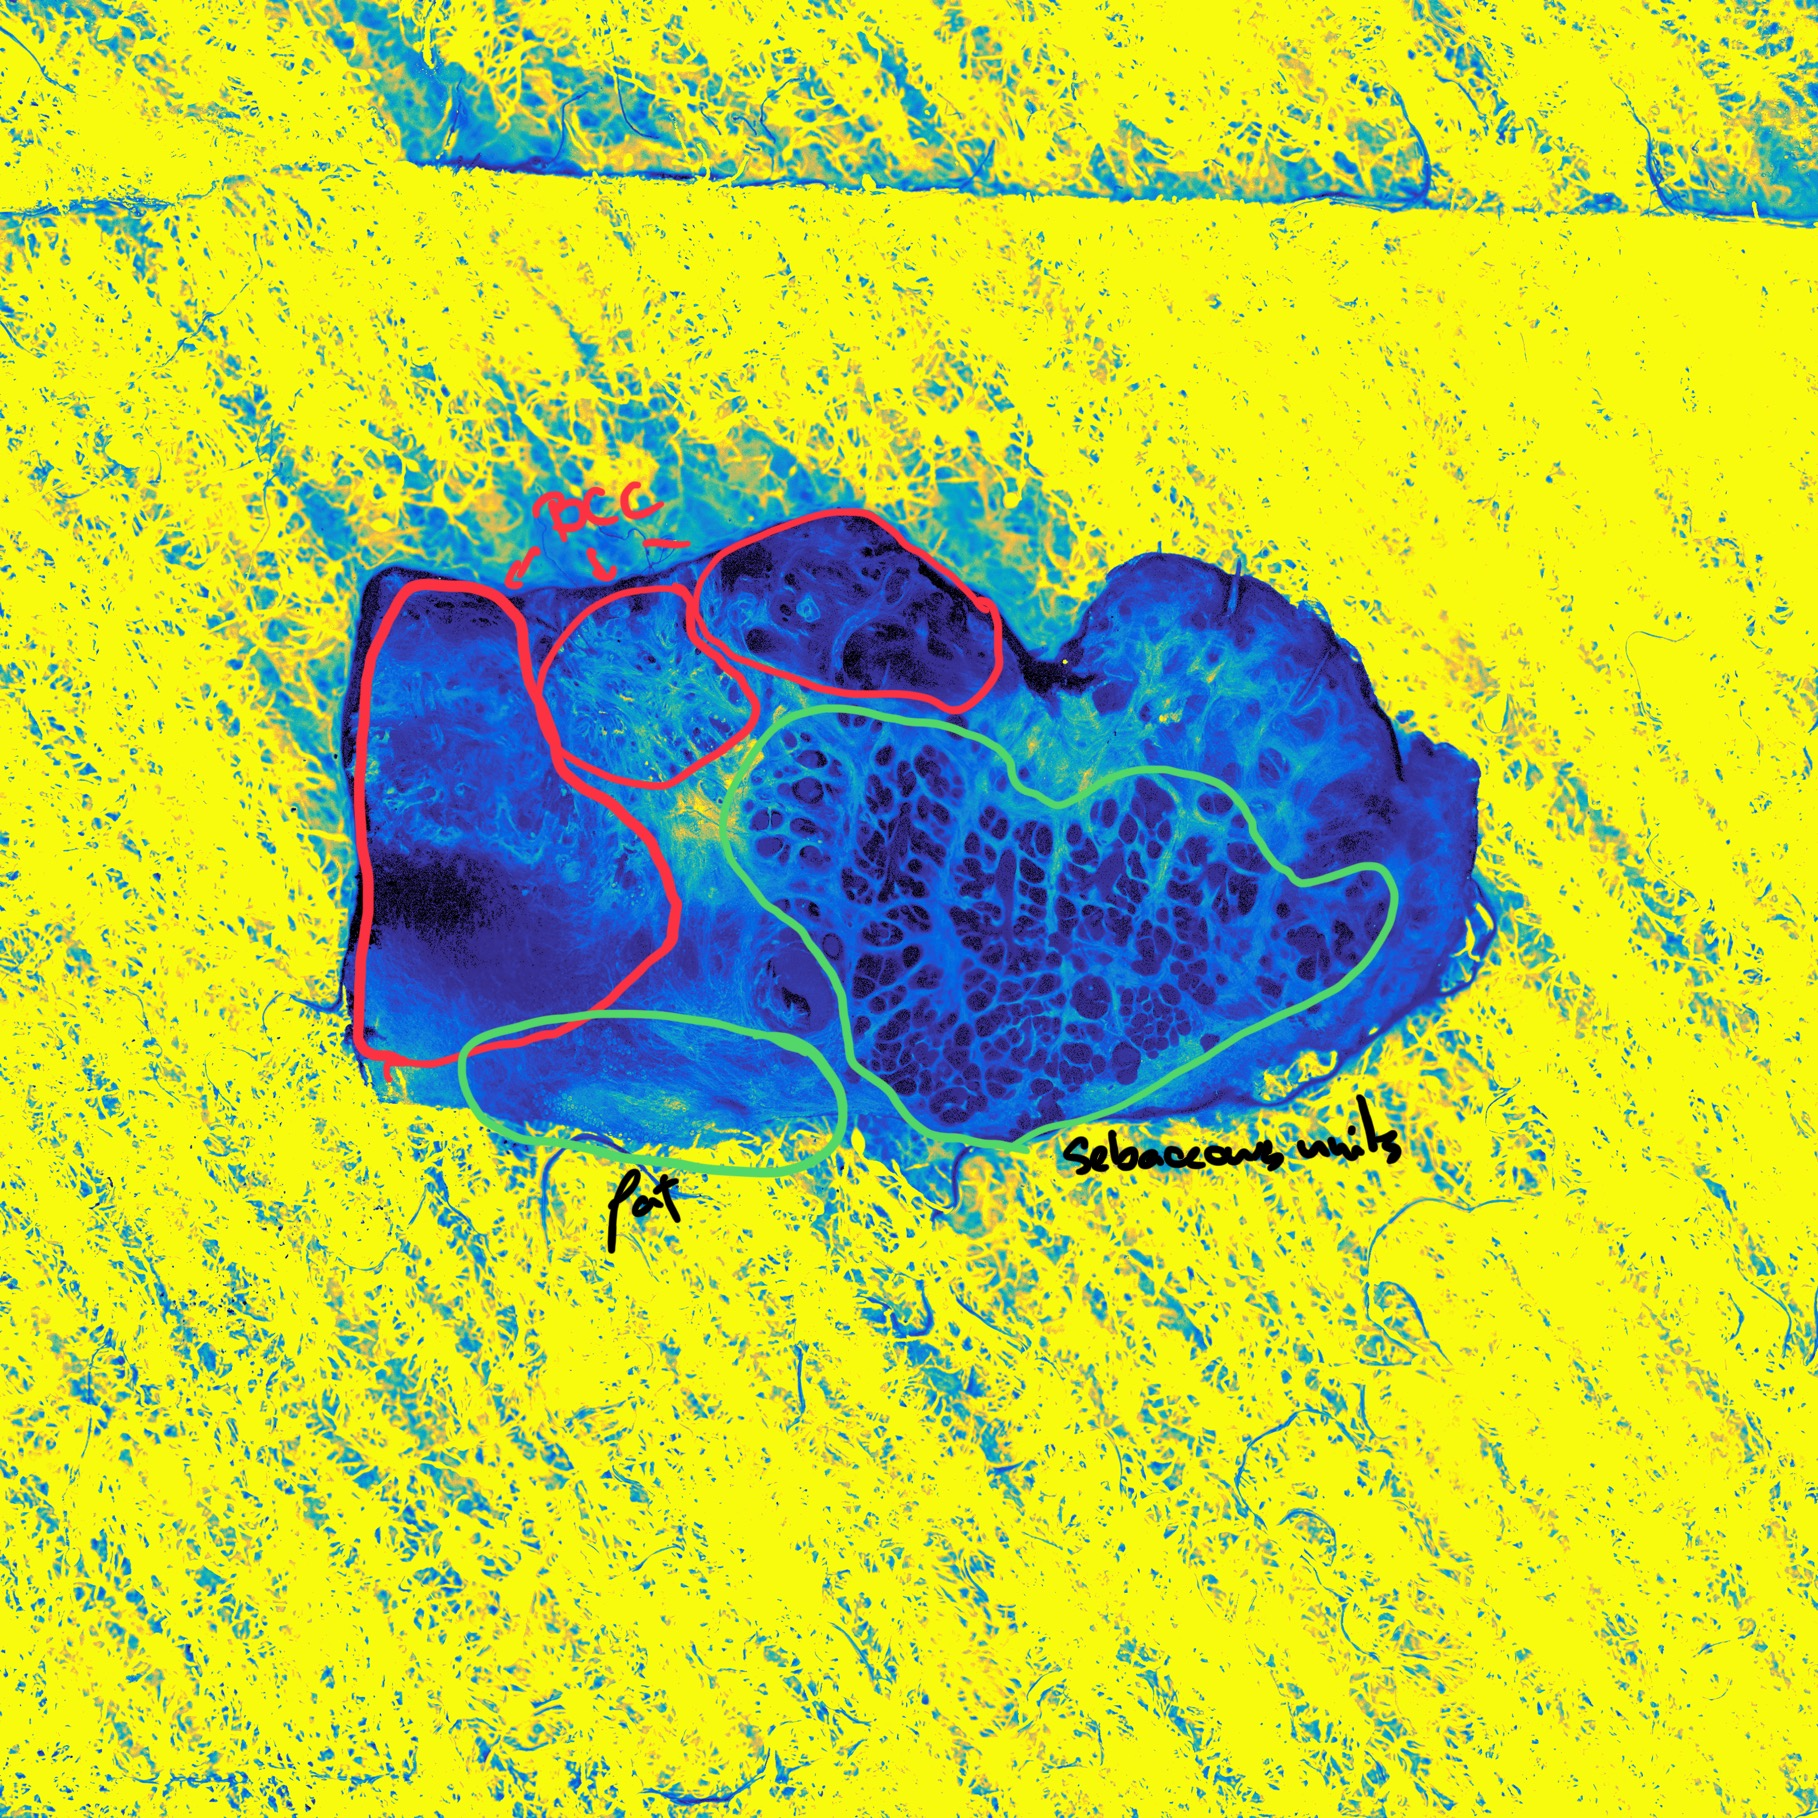BCC: (448, 881, 606, 991), (383, 837, 529, 952), (496, 791, 589, 884), (451, 792, 548, 866), (405, 688, 503, 753), (388, 748, 463, 831), (459, 729, 533, 812), (839, 581, 927, 649), (589, 668, 668, 734), (573, 856, 653, 917), (869, 598, 939, 668), (892, 598, 967, 663), (817, 604, 886, 674), (436, 634, 506, 703), (388, 653, 454, 723), (641, 664, 711, 729), (731, 551, 787, 628), (859, 554, 922, 618), (776, 566, 836, 629), (749, 568, 806, 634), (609, 714, 684, 762), (827, 538, 889, 594), (576, 631, 638, 684), (619, 624, 674, 681), (574, 704, 638, 753), (563, 659, 619, 713), (673, 678, 726, 733)
